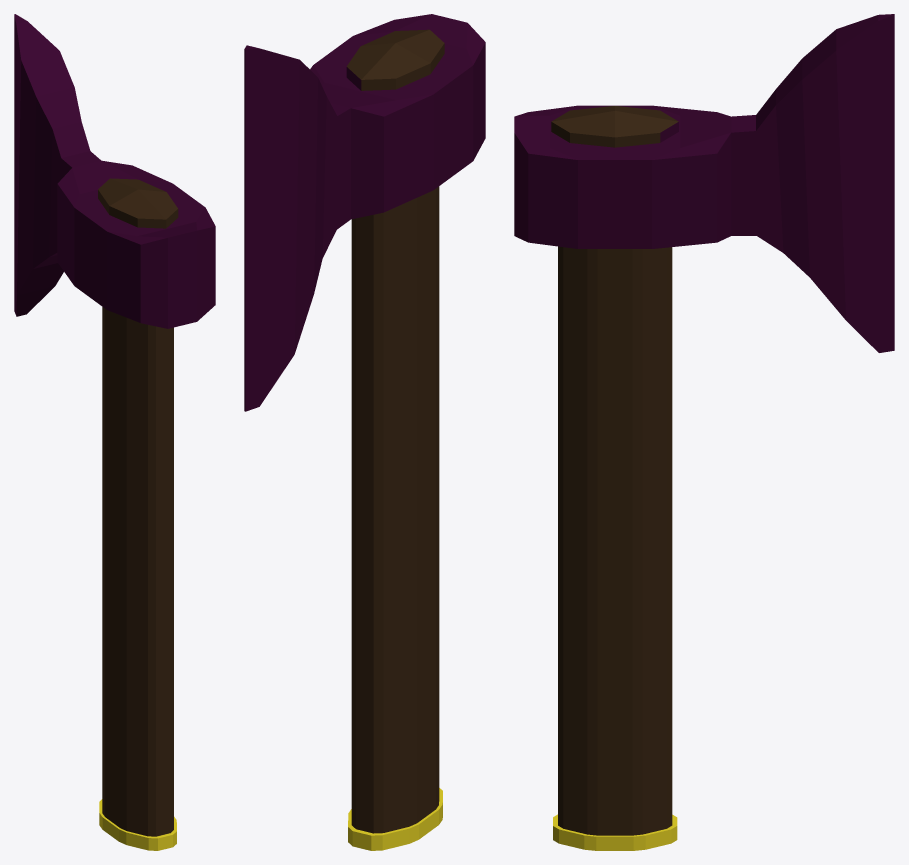
Rendered from axe2.fbx.
3 renders of one model, left to right at view 1: azimuth 30°, elevation 25°; view 2: azimuth 150°, elevation 25°; view 3: azimuth 270°, elevation 25°, orthographic. The views are drawn at different scales.
Visible parts, largest first — view 1: Cube; view 2: Cube; view 3: Cube.
Part boxes in pixels (<box>): Cube: <box>14,14,215,850</box>; Cube: <box>244,14,485,850</box>; Cube: <box>514,14,894,850</box>.
Bounding box in the file's own units: 263 × 1846 × 775.
